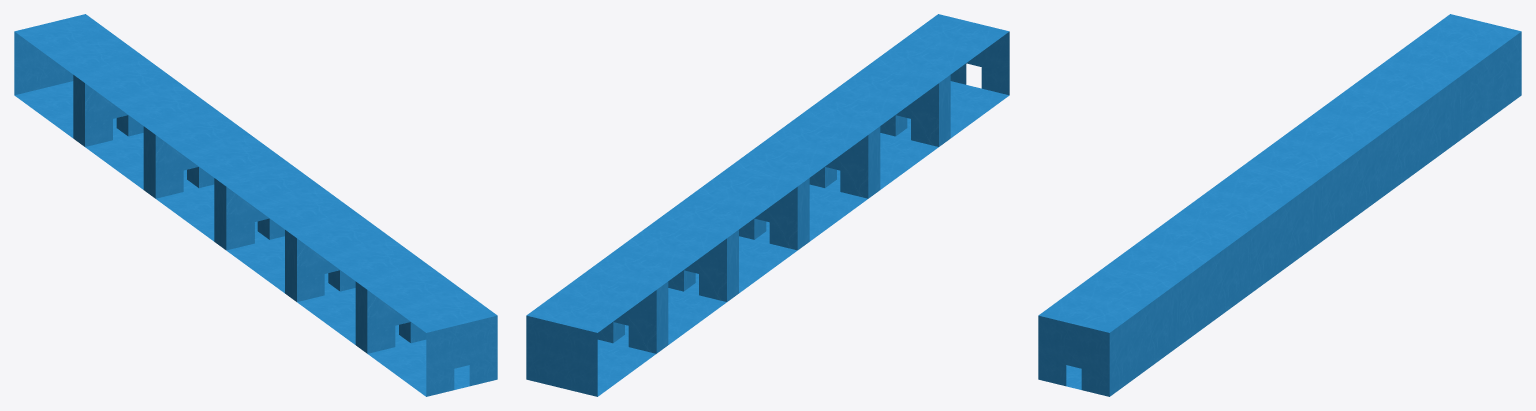
Rendered from mirror room 1.fbx.
3 views of the same model, side by side, from view 1: azimuth 30°, elevation 25°; view 2: azimuth 150°, elevation 25°; view 3: azimuth 330°, elevation 25° (orthographic).
Visible parts, largest first — view 1: polySurface32, polySurface29, polySurface6, polySurface38, pPlane7, polySurface28; view 2: polySurface32, polySurface29, polySurface6, pPlane7, polySurface38, polySurface28; view 3: polySurface32, polySurface36, polySurface29, polySurface38.
Boxes of the visible parts, <box> form: polySurface32: <box>14,14,497,332</box>; polySurface29: <box>73,57,428,353</box>; polySurface6: <box>14,81,469,396</box>; polySurface38: <box>426,315,497,396</box>; pPlane7: <box>14,31,73,95</box>; polySurface28: <box>116,115,410,342</box>; polySurface32: <box>526,14,1009,332</box>; polySurface29: <box>586,58,950,353</box>; polySurface6: <box>597,81,1009,396</box>; pPlane7: <box>526,315,597,396</box>; polySurface38: <box>950,31,1009,95</box>; polySurface28: <box>613,115,907,342</box>; polySurface32: <box>1038,14,1521,332</box>; polySurface36: <box>1109,31,1521,396</box>; polySurface29: <box>1100,57,1462,353</box>; polySurface38: <box>1038,315,1109,396</box>.
Bounding box in the file's own units: 7 × 6 × 70.
7 materials, 7 textured.
